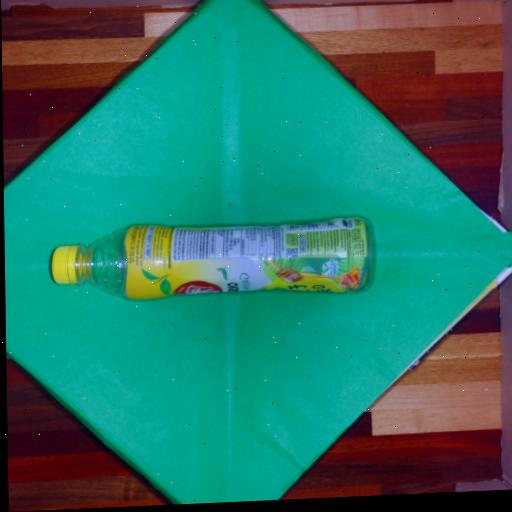bottle: (36, 202, 390, 326)
